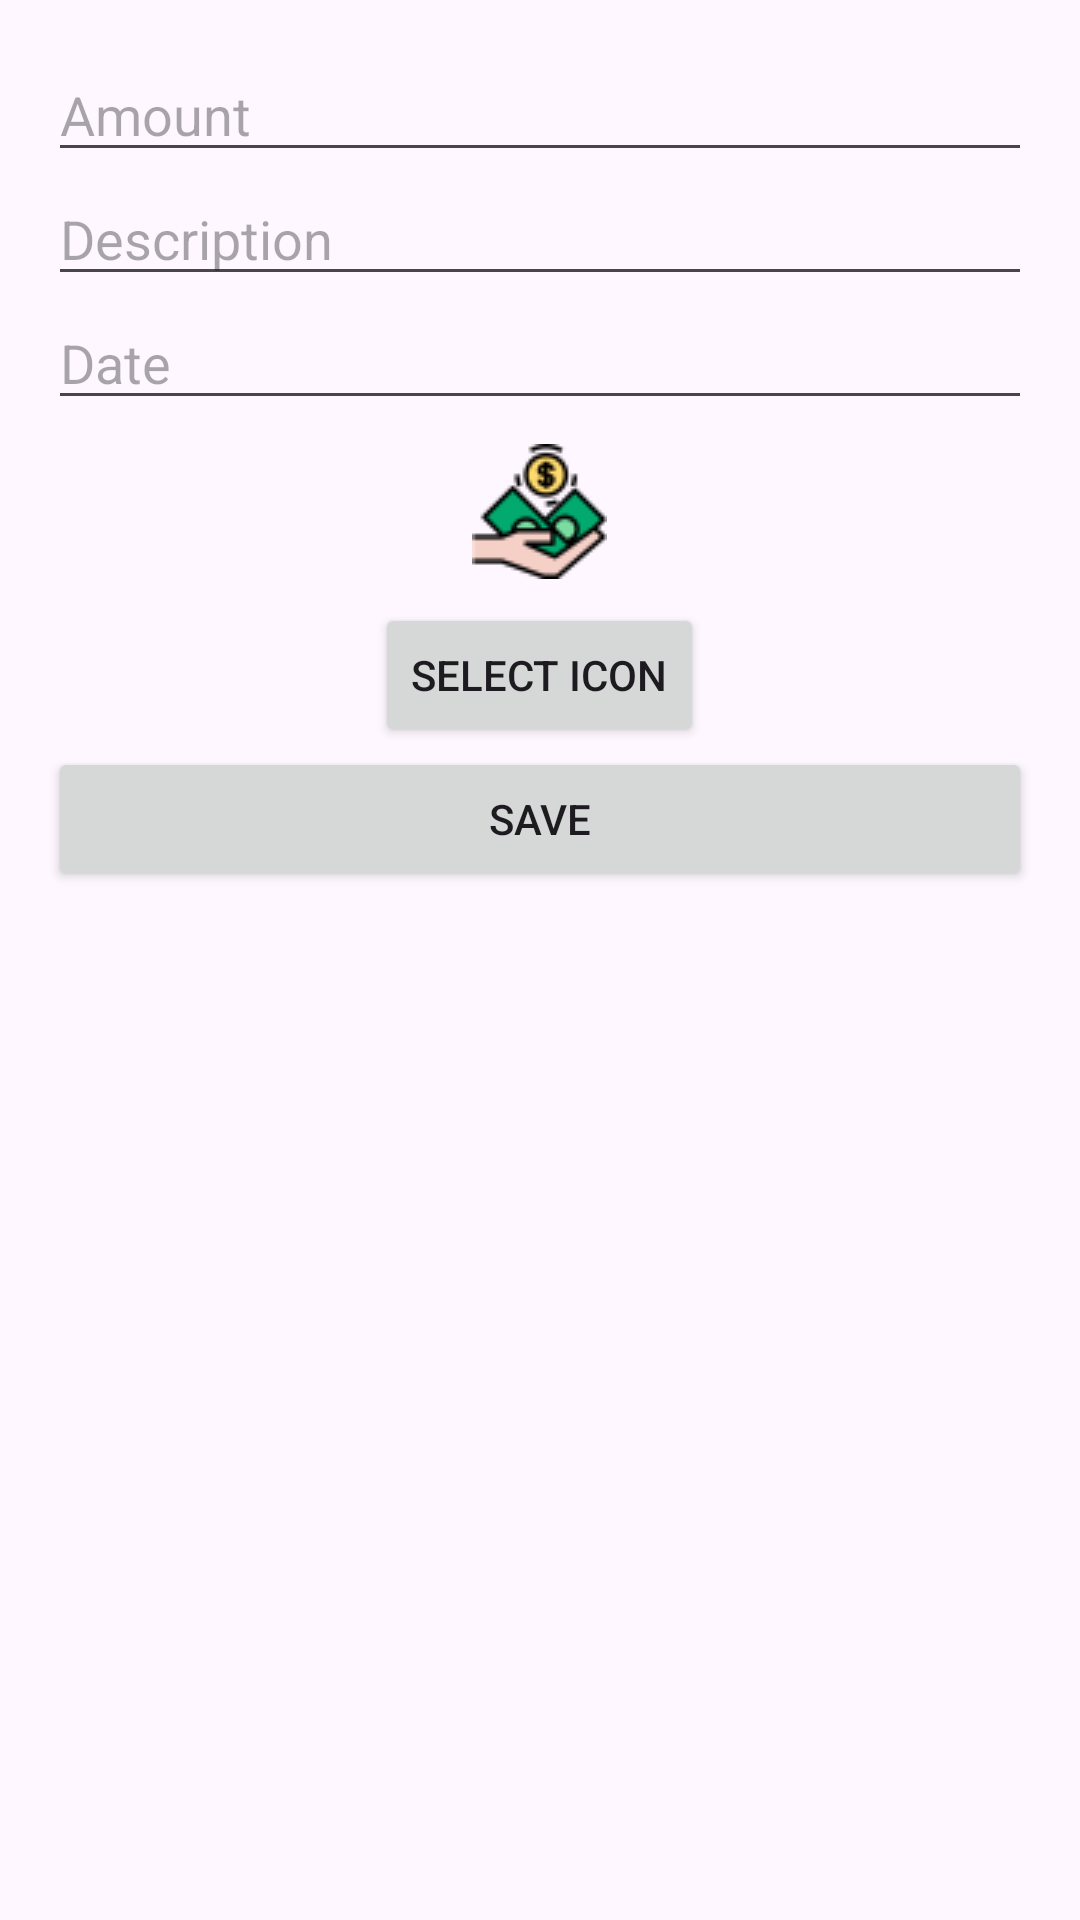

Icons on this 1080 x 1920 Android screen, each with its box as (x1, y1, x2, y2):
money: (472, 444, 607, 579)
